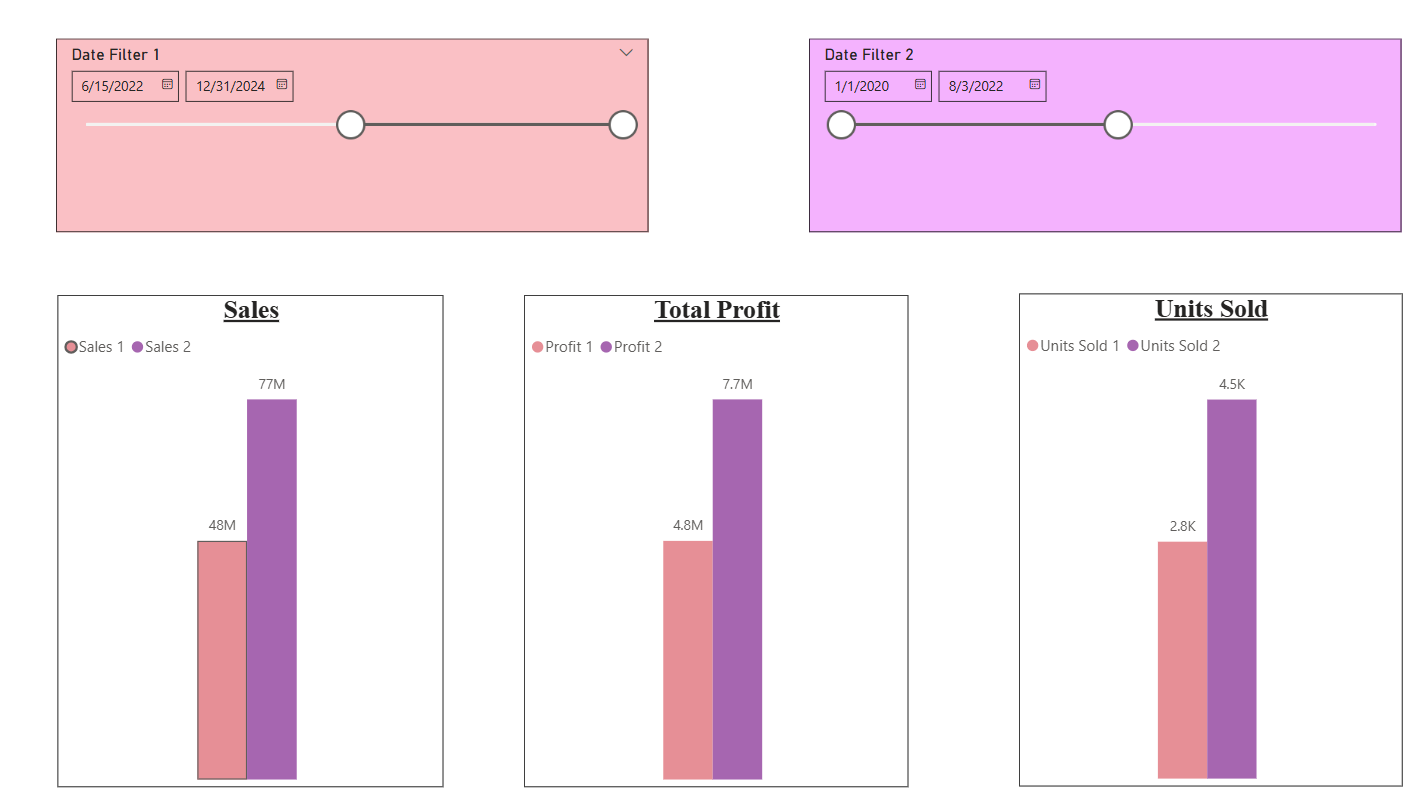

Layout of this report page (visuals, bound fields, positions):
{"tool":"powerbi","page":{"name":"Req 4 Approach 1 ","canvas":[1280,720],"ordinal":2},"visuals":[{"type":"slicer","fields":{"Values":["Date Table 1.Date"]},"box":[56,43.9,523.9,171.1],"z":0},{"type":"slicer","fields":{"Values":["Date Table 2.Date"]},"box":[722.3,43.9,523.9,171.1],"z":1000},{"type":"clusteredColumnChart","title":"Sales","fields":{"Y":["Sum(Records.Net Sales)","Date Table 1.Sum of Net Sales"]},"box":[56.7,270,341.6,435.6],"z":2000},{"type":"clusteredColumnChart","title":"Total Profit","fields":{"Y":["Sum(Records.Profit)","Date Table 1.Sum of Total Profit"]},"box":[469.9,270,340.1,435.6],"z":3000},{"type":"clusteredColumnChart","title":"Units Sold","fields":{"Y":["Sum(Records.Units Sold)","Measures (2).Sum of Units Sold"]},"box":[907,269.5,339.2,436.1],"z":4000}]}

Visuals, with their boxes in screenshot pixels (x1, y1, x2, y2), scaled from the page's 1280x720 canvas onto the 1423x793 screenshot:
slicer - Date Table 1.Date: (x1=62, y1=48, x2=645, y2=237)
slicer - Date Table 2.Date: (x1=803, y1=48, x2=1385, y2=237)
"Sales" clusteredColumnChart: (x1=63, y1=297, x2=443, y2=777)
"Total Profit" clusteredColumnChart: (x1=522, y1=297, x2=900, y2=777)
"Units Sold" clusteredColumnChart: (x1=1008, y1=297, x2=1385, y2=777)
